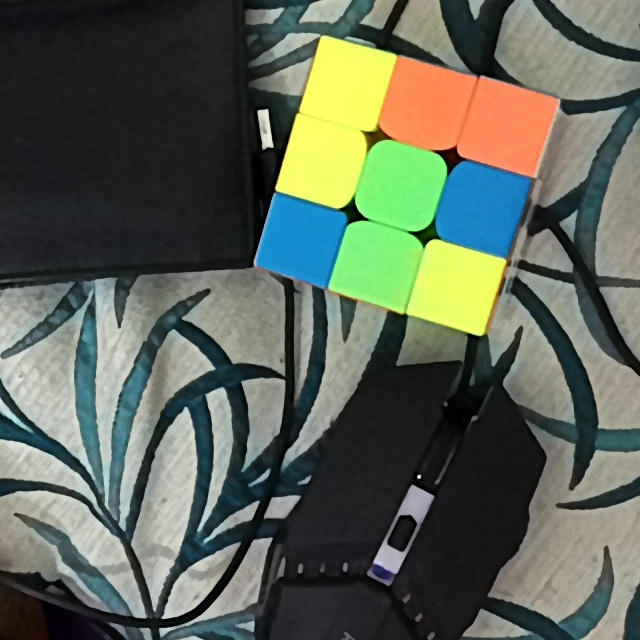tile: (366, 153, 438, 216), (474, 97, 543, 157), (451, 175, 512, 238), (317, 52, 377, 115), (395, 76, 454, 136), (423, 257, 486, 313), (295, 133, 350, 194), (346, 237, 406, 291), (275, 212, 331, 269)
